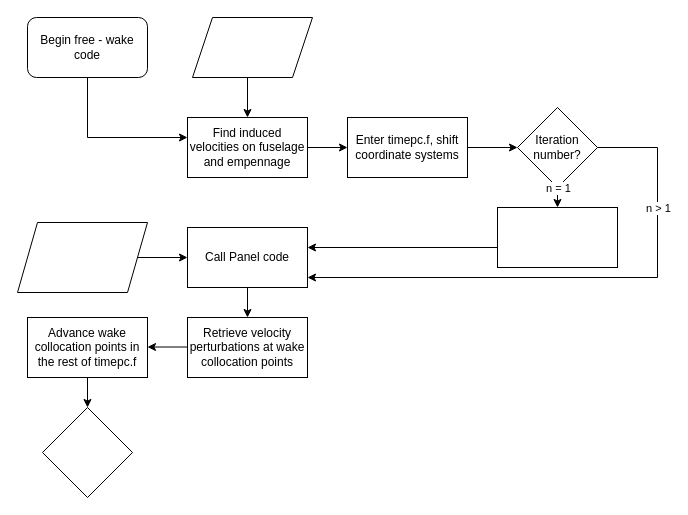
Some shapes in this 688 by 515 pixel diagram are drawn without their labels. Each missing label, with the box of its shape:
Displace wake collocation points within fuselage: (496, 206, 618, 268)
Flight/User inputs Mesh Fuselage velocities: (16, 222, 148, 292)
Maximum iterations reached?: (42, 406, 132, 498)
Read user/flight inputs: (192, 16, 312, 78)
